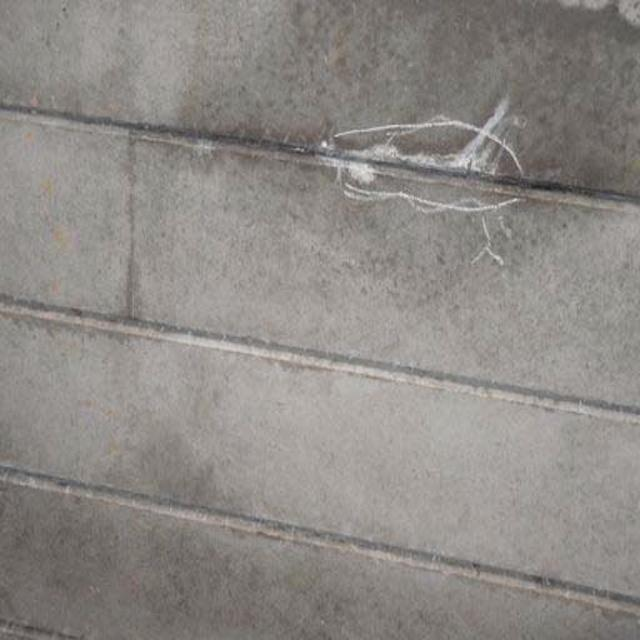freelime: (332, 117, 534, 210)
